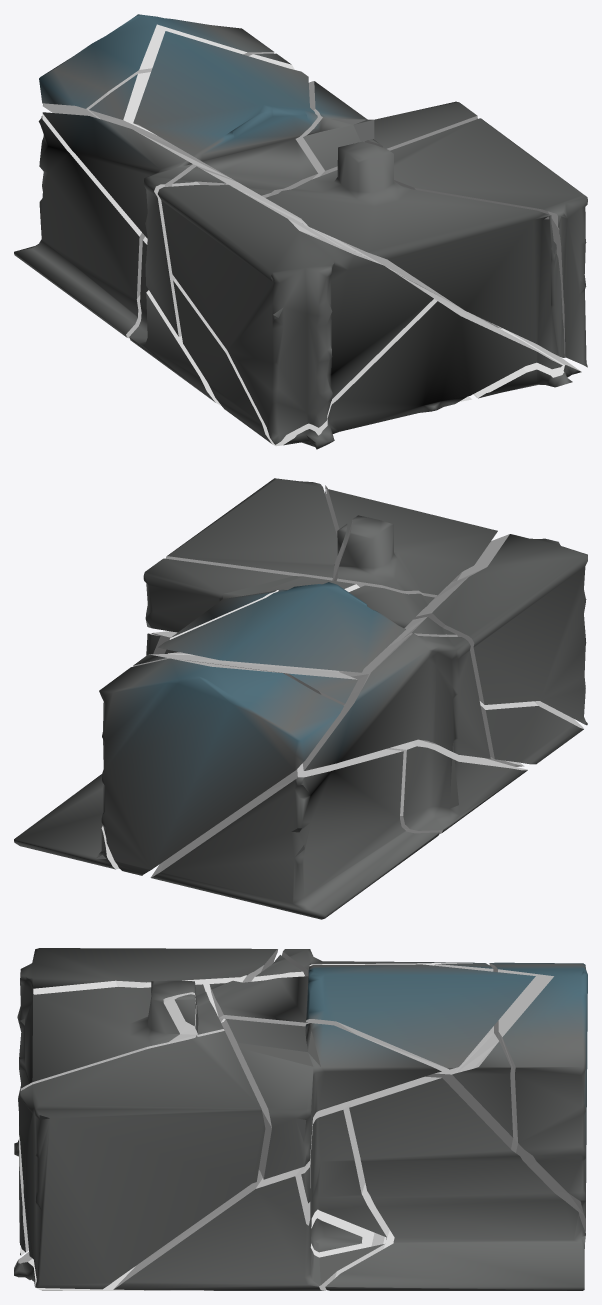
Rendered from Apartment Buildings(4).glb.
3 renders of one model, top to bottom at view 1: azimuth 30°, elevation 25°; view 2: azimuth 150°, elevation 25°; view 3: azimuth 270°, elevation 25°, orthographic. The views are drawn at different scales.
Visible parts, largest first — view 1: Root.008, Root.001, Root, Root.005, Root.009, Root.016, Root.004, Root.017, Root.015, Root.006, Root.007, Root.002 (+1 smaller); view 2: Root.017, Root.016, Root.008, Root.004, Root.005, Root.001, Root.009, Root.015, Root.006, Root.012, Root, Root.007 (+1 smaller); view 3: Root.009, Root.012, Root.003, Root.005, Root.017, Root.015, Root.001, Root.008, Root.007, Root.002, Root.004, Root.014 (+1 smaller).
Boxes of the visible parts, box(x1,y1,x2,y2) form: Root.008: box(157, 184, 433, 444); Root.001: box(266, 141, 564, 357); Root: box(173, 224, 562, 449); Root.005: box(133, 31, 317, 197); Root.009: box(390, 118, 587, 367); Root.016: box(14, 114, 145, 338); Root.004: box(42, 112, 234, 336); Root.017: box(39, 14, 274, 119); Root.015: box(295, 81, 477, 179); Root.006: box(129, 236, 221, 405); Root.007: box(89, 53, 294, 181); Root.002: box(473, 326, 581, 398); Root.017: box(99, 658, 343, 875); Root.016: box(150, 749, 439, 919); Root.008: box(413, 534, 587, 725); Root.004: box(302, 633, 490, 770); Root.005: box(158, 582, 434, 672); Root.001: box(325, 485, 497, 597); Root.009: box(165, 478, 337, 580); Root.015: box(143, 558, 359, 639); Root.006: box(386, 739, 527, 834); Root.012: box(14, 652, 194, 869); Root: box(479, 701, 583, 764); Root.007: box(133, 654, 357, 705); Root.009: box(19, 1031, 265, 1289); Root.012: box(325, 1076, 585, 1290); Root.003: box(113, 1099, 389, 1290); Root.005: box(209, 964, 535, 1069); Root.017: box(489, 962, 587, 1231); Root.015: box(221, 1019, 441, 1179); Root.001: box(19, 980, 224, 1252); Root.008: box(17, 948, 277, 1110); Root.007: box(360, 963, 513, 1148); Root.002: box(14, 1209, 374, 1290); Root.004: box(282, 949, 476, 976); Root.014: box(221, 955, 304, 1022).
Bounding box in the file's own units: 22.04 × 14.24 × 32.91.
